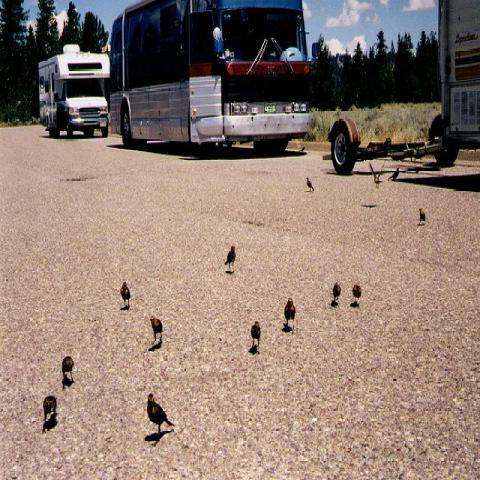bus: (108, 0, 316, 160)
truck: (39, 38, 111, 138)
